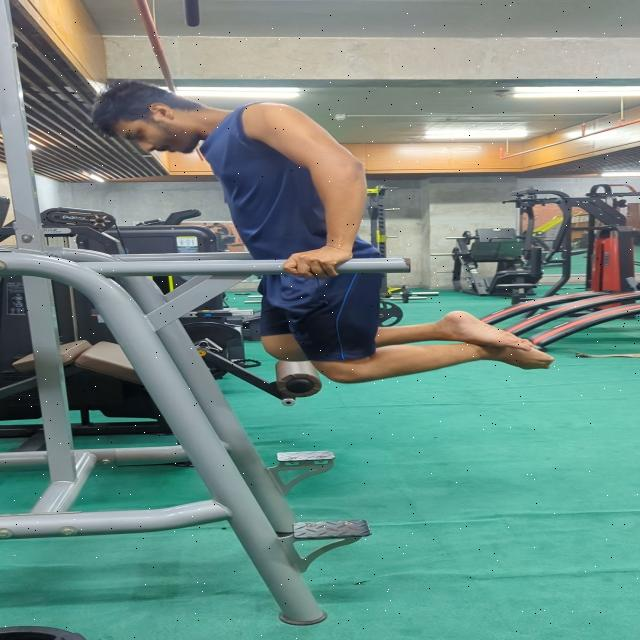Normal_Dips: (86, 78, 572, 395)
